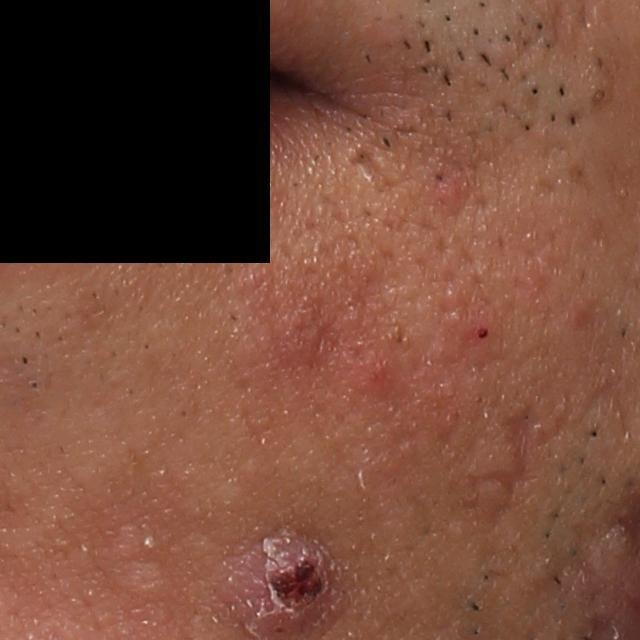atrophic_scar: (463, 406, 535, 510), (342, 144, 392, 192)
comedo: (587, 85, 610, 106)
hypertrophic_scar: (112, 523, 179, 606)
papule: (353, 351, 403, 393), (436, 167, 477, 210), (463, 313, 497, 348)
